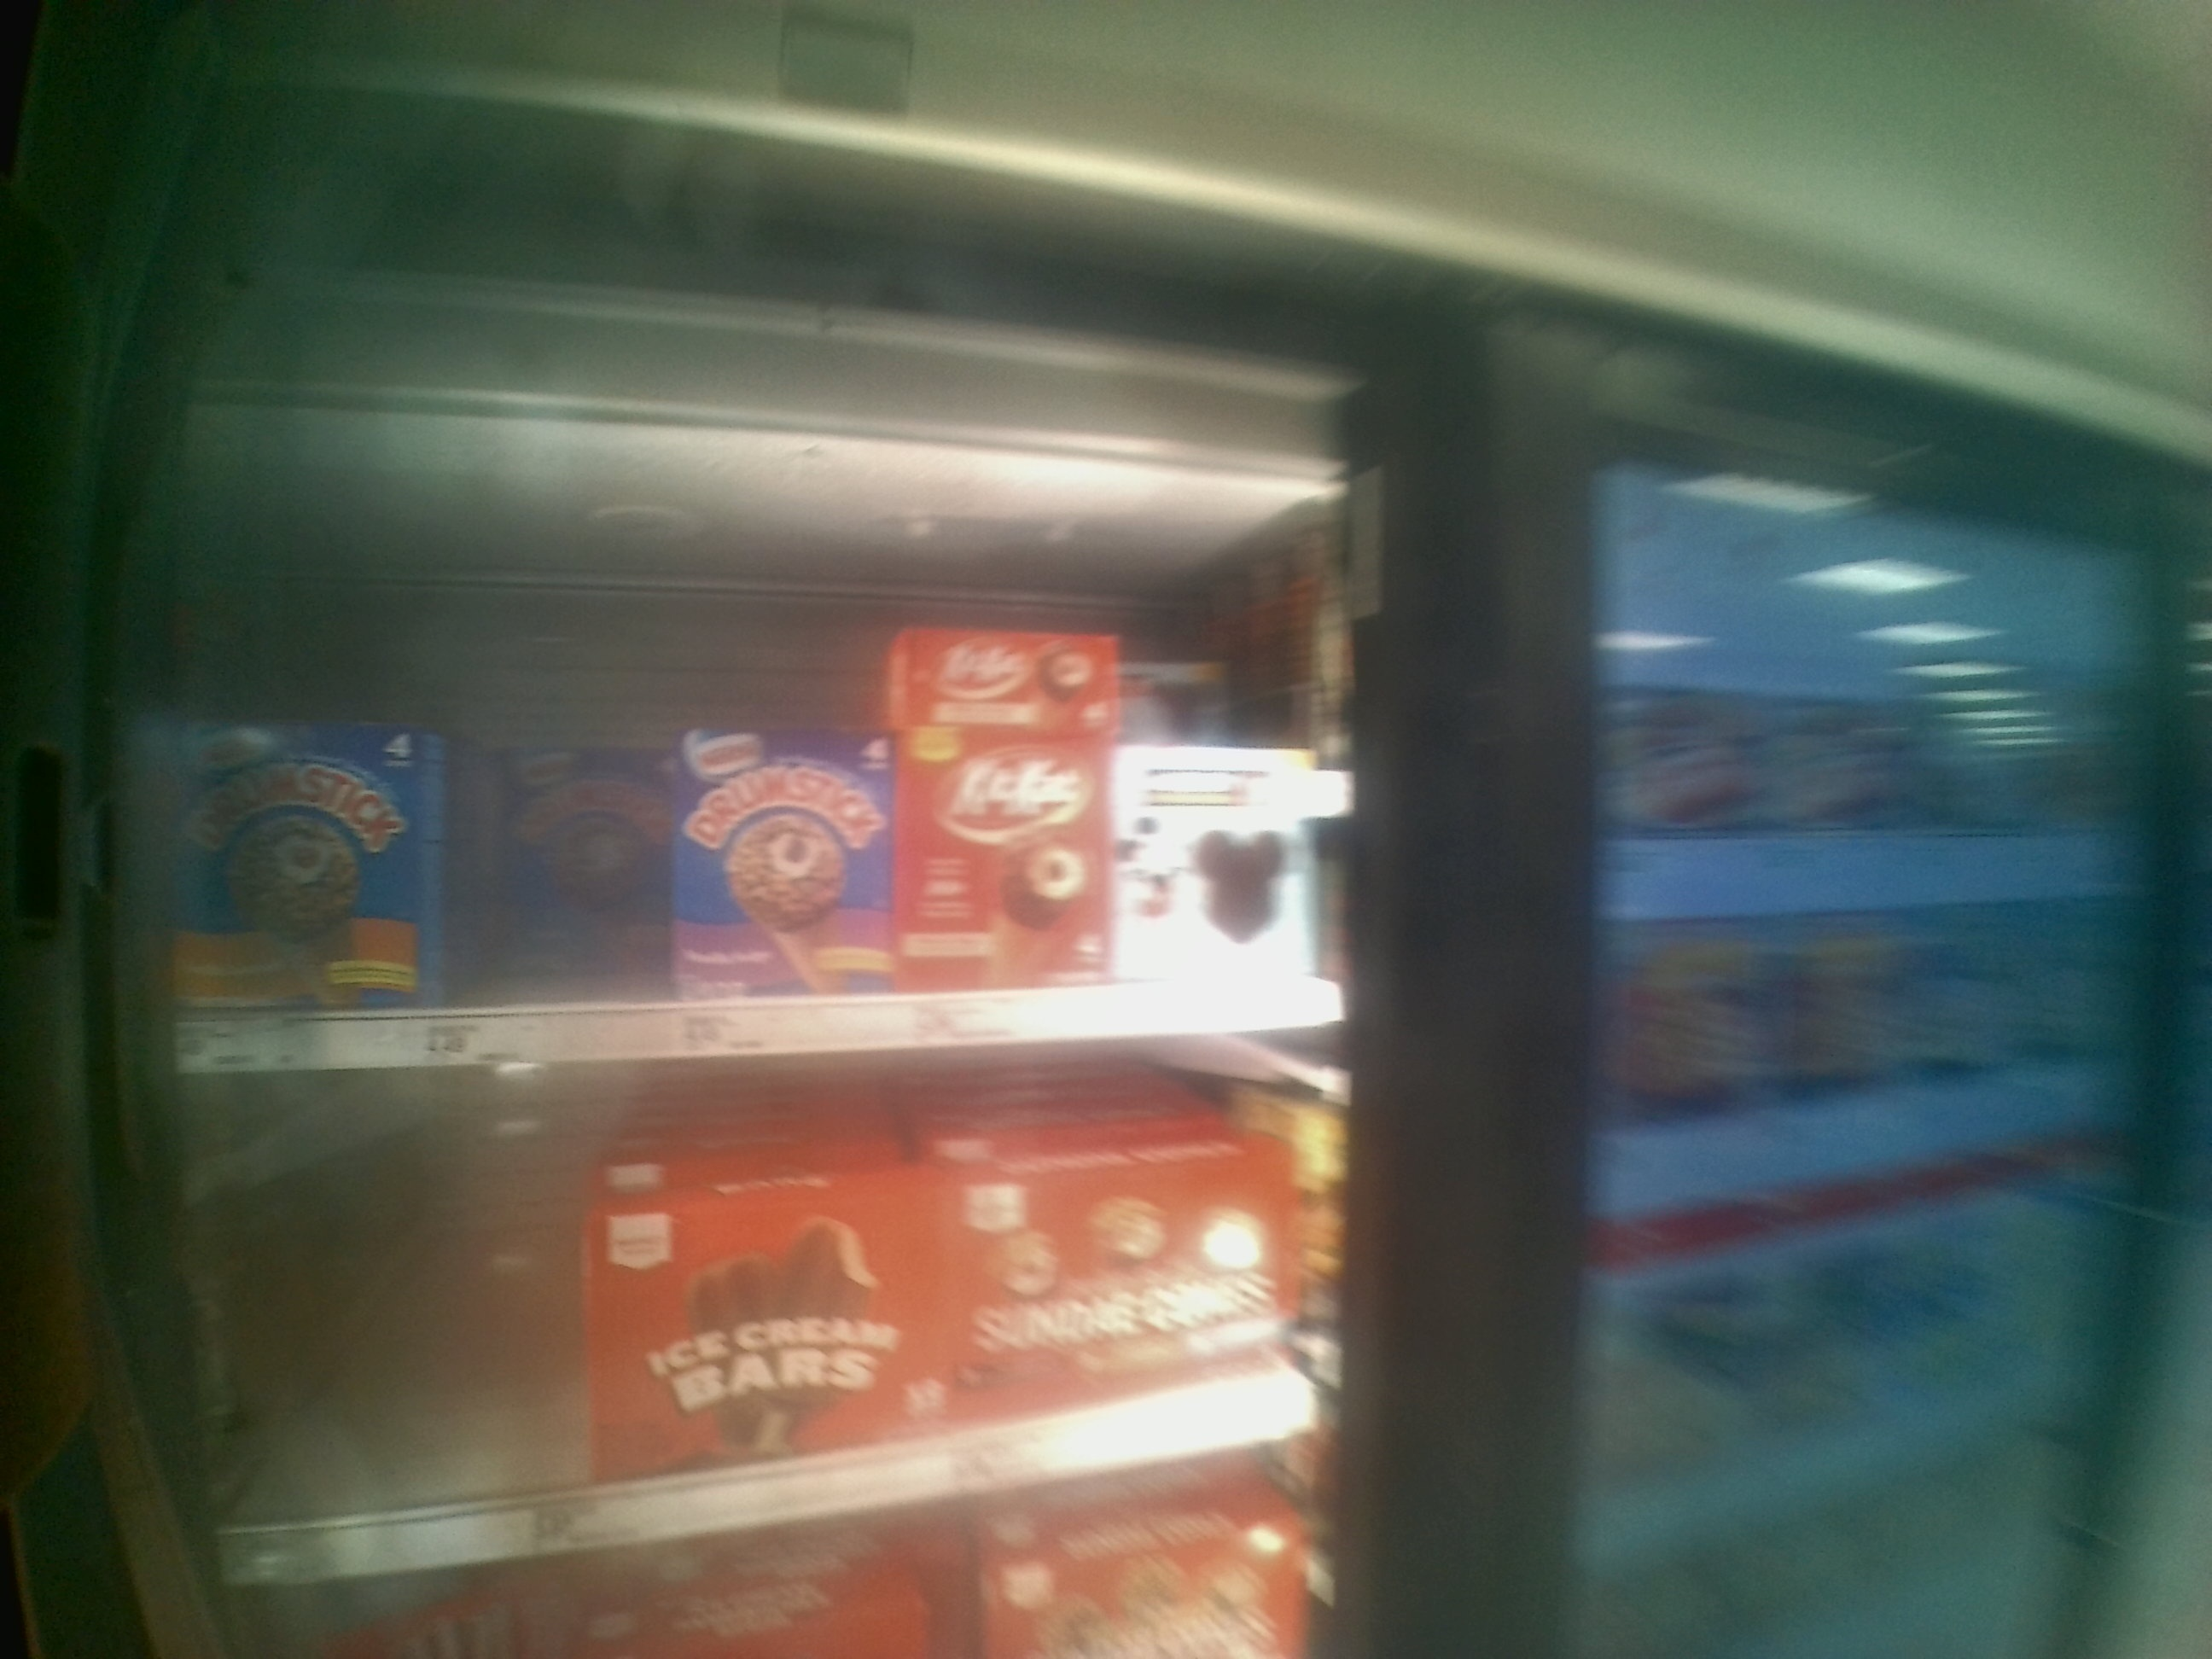shelf: (178, 538, 1353, 1065), (214, 1084, 1332, 1600)
